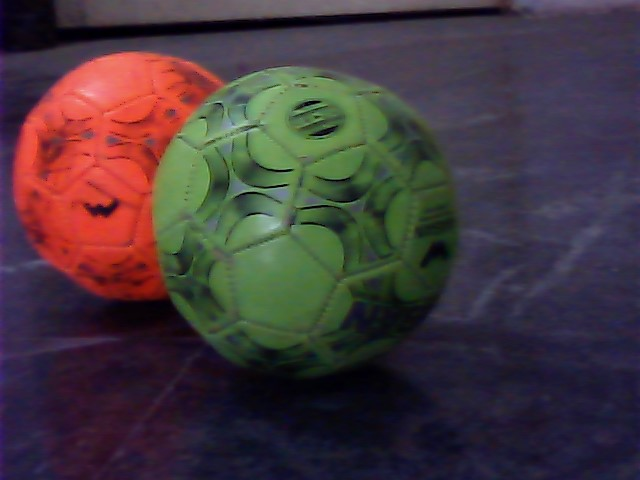Green_ball: (152, 75, 469, 378)
Orange_ball: (13, 47, 232, 307)
